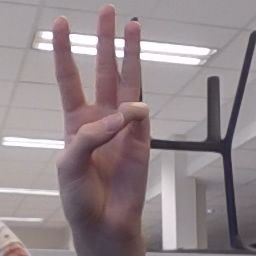W: (47, 2, 158, 235)
